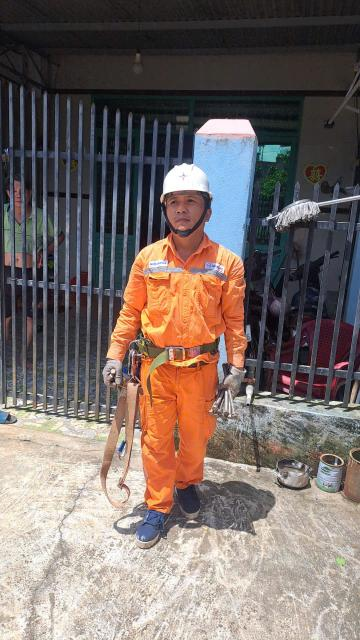gloves: (218, 363, 247, 406), (101, 357, 127, 396)
harness: (128, 334, 228, 372)
helmet: (150, 139, 215, 201)
shoes: (134, 495, 171, 556), (169, 477, 213, 523)
